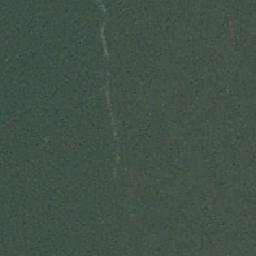debris: (104, 84, 118, 136), (98, 21, 109, 55)
